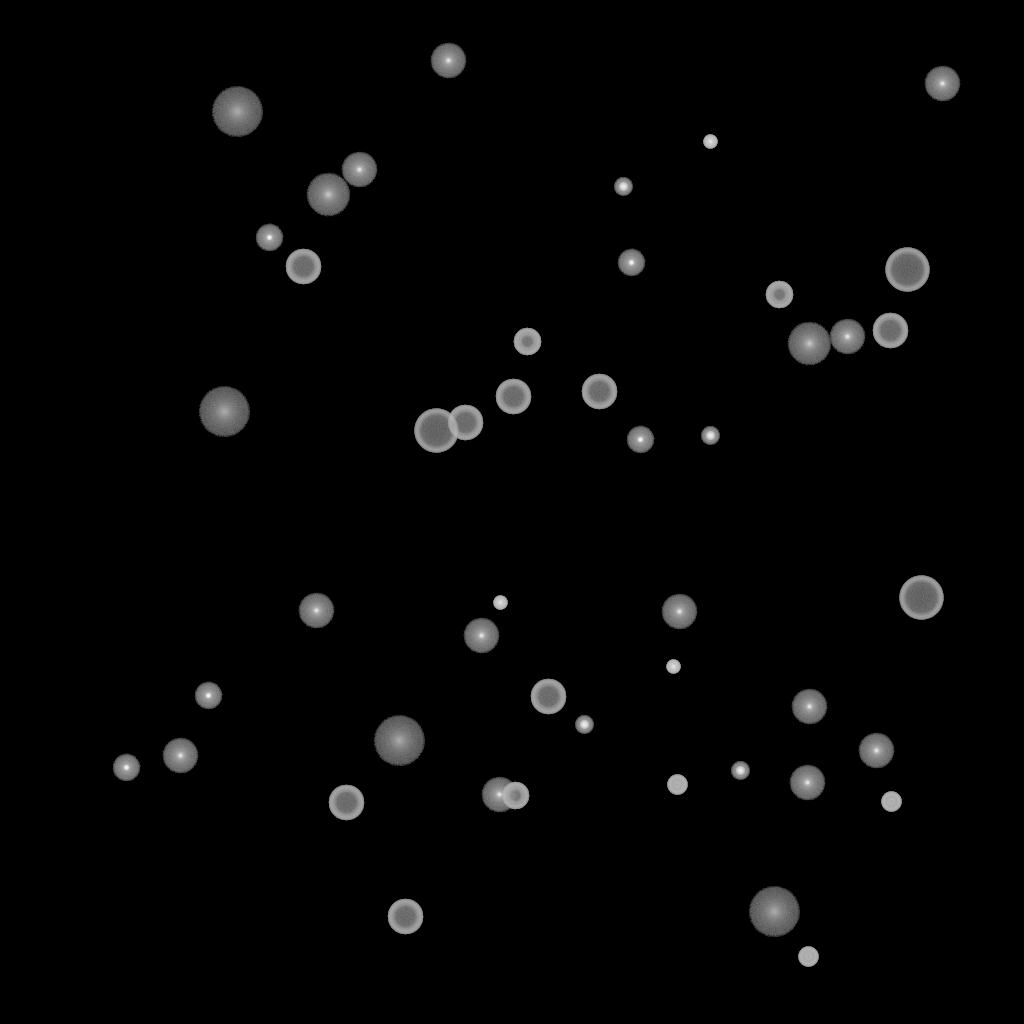depth:-10: (617, 249, 645, 277), (194, 682, 222, 710), (626, 426, 654, 454), (255, 224, 283, 252), (112, 754, 140, 782)
depth:-20: (614, 178, 632, 196), (701, 427, 719, 445), (731, 762, 749, 780), (575, 716, 593, 734)
depth:-30: (493, 596, 507, 610), (703, 135, 717, 149), (666, 660, 680, 674)
depth:-40: (798, 947, 818, 967), (881, 792, 901, 812), (667, 775, 687, 795)
depth:-50: (765, 281, 793, 309), (513, 328, 541, 356), (501, 782, 529, 810)
depth:-60: (328, 785, 364, 821), (495, 379, 531, 415), (387, 899, 423, 935), (872, 313, 908, 349), (285, 249, 321, 285), (447, 405, 483, 441), (530, 679, 566, 715), (581, 374, 617, 410)
depth:-70: (414, 409, 458, 453), (899, 576, 943, 620), (885, 248, 929, 292)
depth:0: (661, 594, 697, 630), (858, 733, 894, 769), (829, 319, 865, 355), (789, 765, 825, 801), (162, 738, 198, 774), (791, 689, 827, 725), (341, 152, 377, 188), (298, 593, 334, 629), (430, 43, 466, 79), (463, 618, 499, 654), (481, 777, 517, 813), (924, 66, 960, 102)
depth:10: (787, 322, 831, 366), (306, 173, 350, 217)
depth:20: (748, 887, 800, 937), (198, 387, 250, 437), (373, 716, 425, 766), (211, 87, 263, 137)
